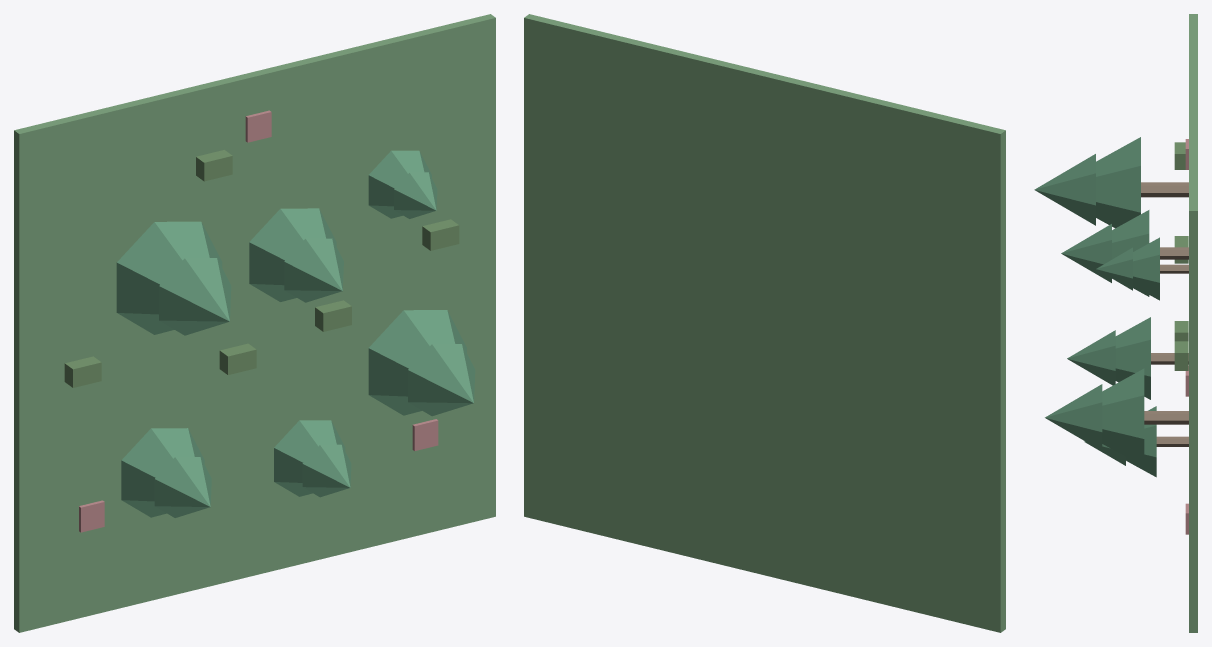
The model's file is tree_cluster.glb.
3 views of the same model, side by side, from view 1: azimuth 30°, elevation 25°; view 2: azimuth 150°, elevation 25°; view 3: azimuth 270°, elevation 25° (orthographic). The views are drawn at different scales.
Parts seen in each view (by area): view 1: grass, tree, hedge, flower; view 2: grass; view 3: tree, grass, trunk, hedge, flower.
Part boxes in pixels (x1,y1,x2,y2): grass: (14,14,495,632); tree: (116,150,475,517); hedge: (64,150,459,387); flower: (79,110,438,532); grass: (524,14,1005,632); tree: (1034,137,1159,477); grass: (1189,14,1197,632); trunk: (1141,182,1188,446); hedge: (1174,142,1188,370); flower: (1185,139,1188,534).
Size of the model in its own units: 20 by 20 by 7.03.
